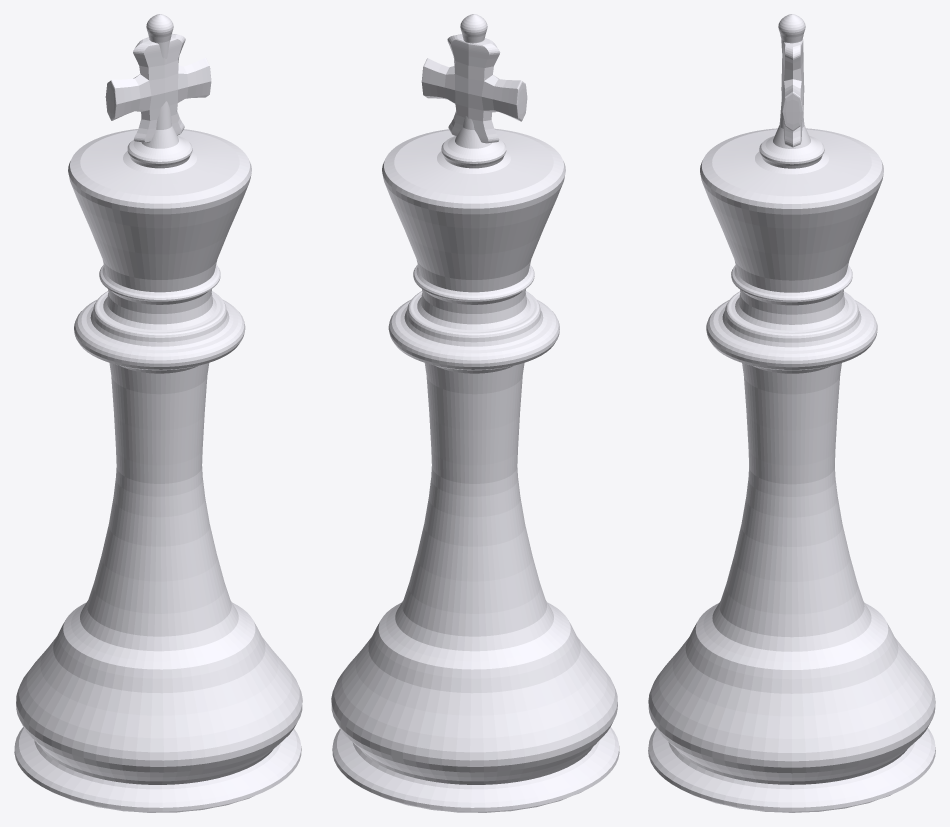
File: king.glb
3 views of the same model, side by side, from view 1: azimuth 30°, elevation 25°; view 2: azimuth 150°, elevation 25°; view 3: azimuth 270°, elevation 25° (orthographic).
Visible parts, largest first — view 1: king_white; view 2: king_white; view 3: king_white.
Part boxes in pixels (x1,y1,x2,y2): king_white: (14,14,302,812); king_white: (331,14,619,812); king_white: (648,14,935,812).
Size of the model in its own units: 1.42 by 4.03 by 1.41.
Materials: 1 (1 with a texture image).
